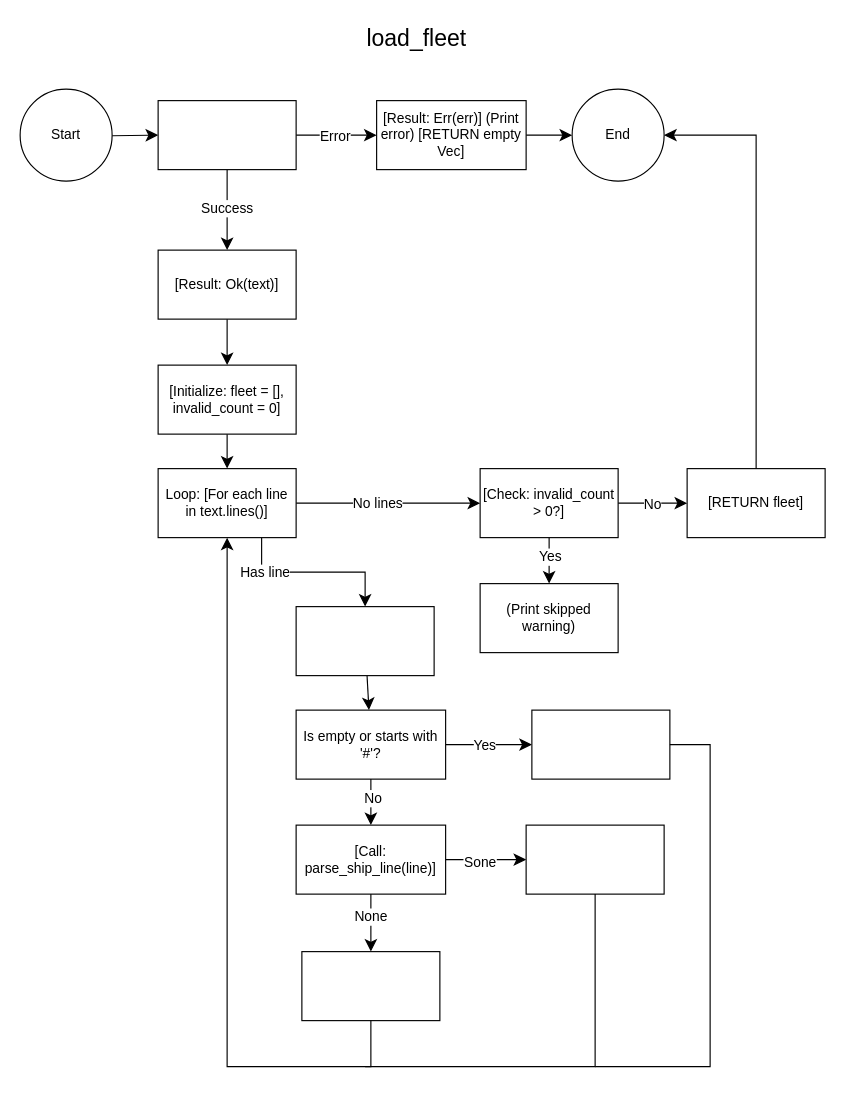
Some shapes in this 845 by 1098 pixel diagram are drawn without their labels. Here are the shapes that lost their labels. From the top down, the centre of each, then its label:
At point 226,134: "Attempt File Read".
At point 364,640: "[Trim line]".
At point 600,744: "[ Continue ]".
At point 594,859: "[ Push ]".
At point 370,985: "[ count +1 ]".
